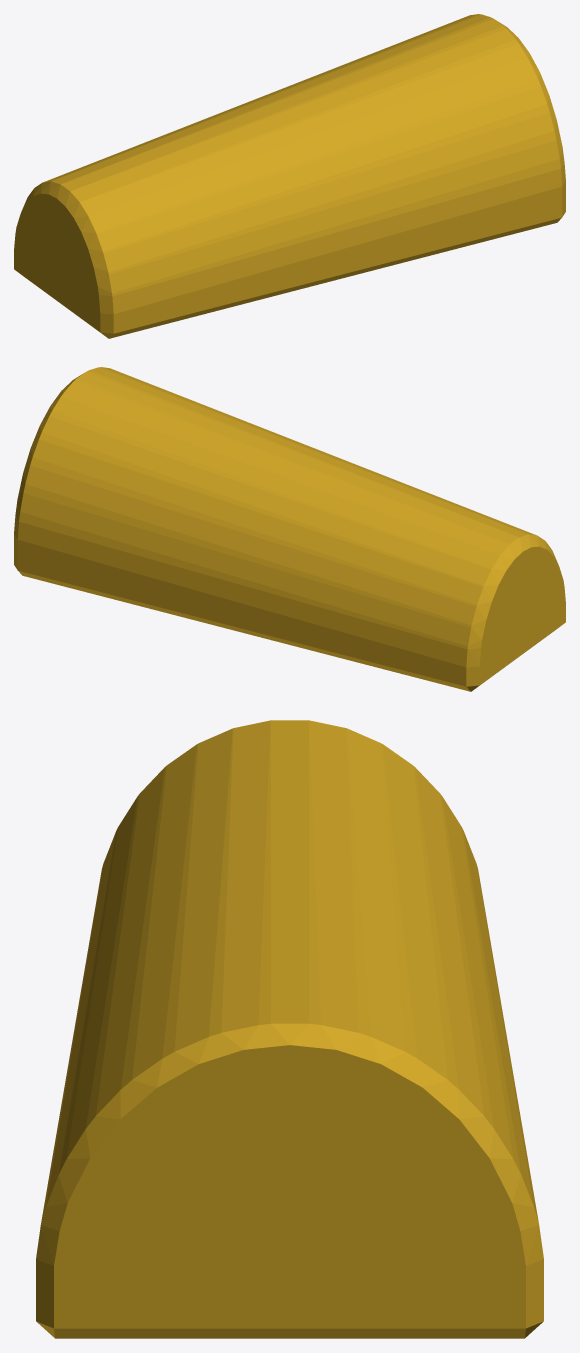
File: VIS_HandInterfaceBack.dae
The picture shows the model from 3 angles, top to bottom: view 1: azimuth 30°, elevation 25°; view 2: azimuth 150°, elevation 25°; view 3: azimuth 270°, elevation 25°; orthographic projection. The views are drawn at different scales.
Visible parts, largest first — view 1: VIS_HandInterfaceBack; view 2: VIS_HandInterfaceBack; view 3: VIS_HandInterfaceBack.
Boxes of the visible parts, x1,y1,x2,y2 form: VIS_HandInterfaceBack: (14, 14, 565, 338); VIS_HandInterfaceBack: (14, 367, 565, 691); VIS_HandInterfaceBack: (36, 720, 543, 1338).
Size of the model in its own units: 0.0597 by 0.0292 by 0.0227.
